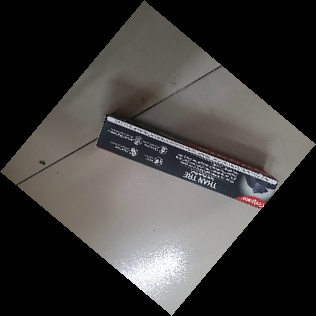Colgate Than: (94, 111, 281, 214)
